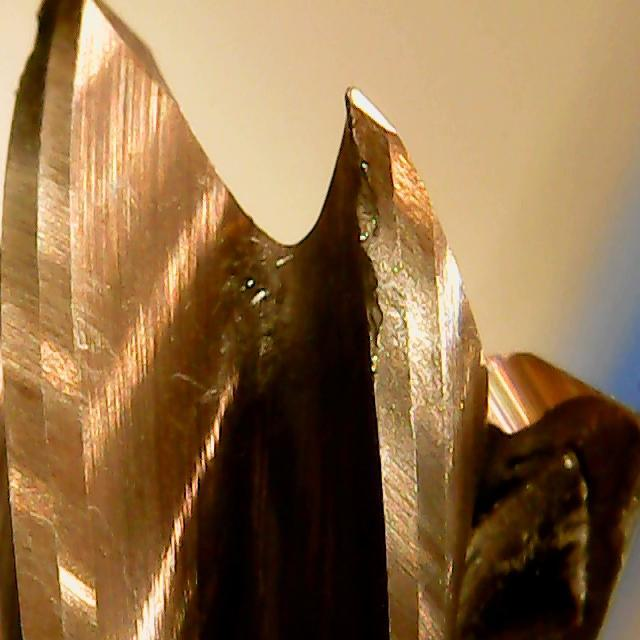Tool-wear-class-1: (324, 66, 471, 351)
